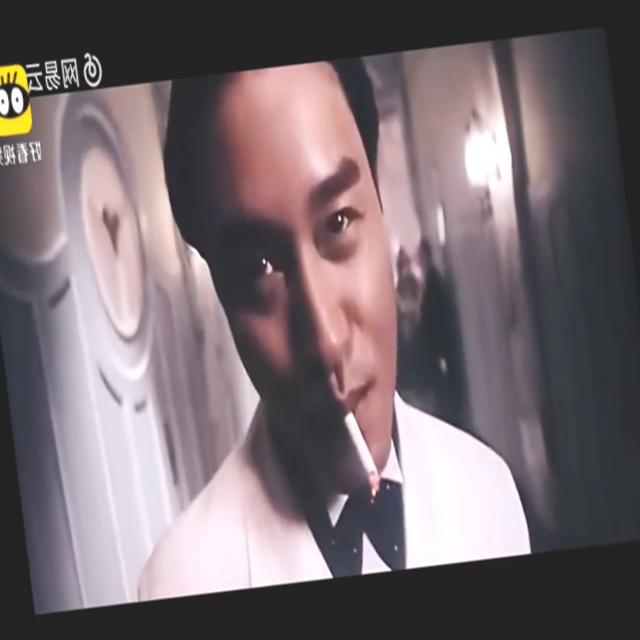smoke: (348, 401, 383, 494)
